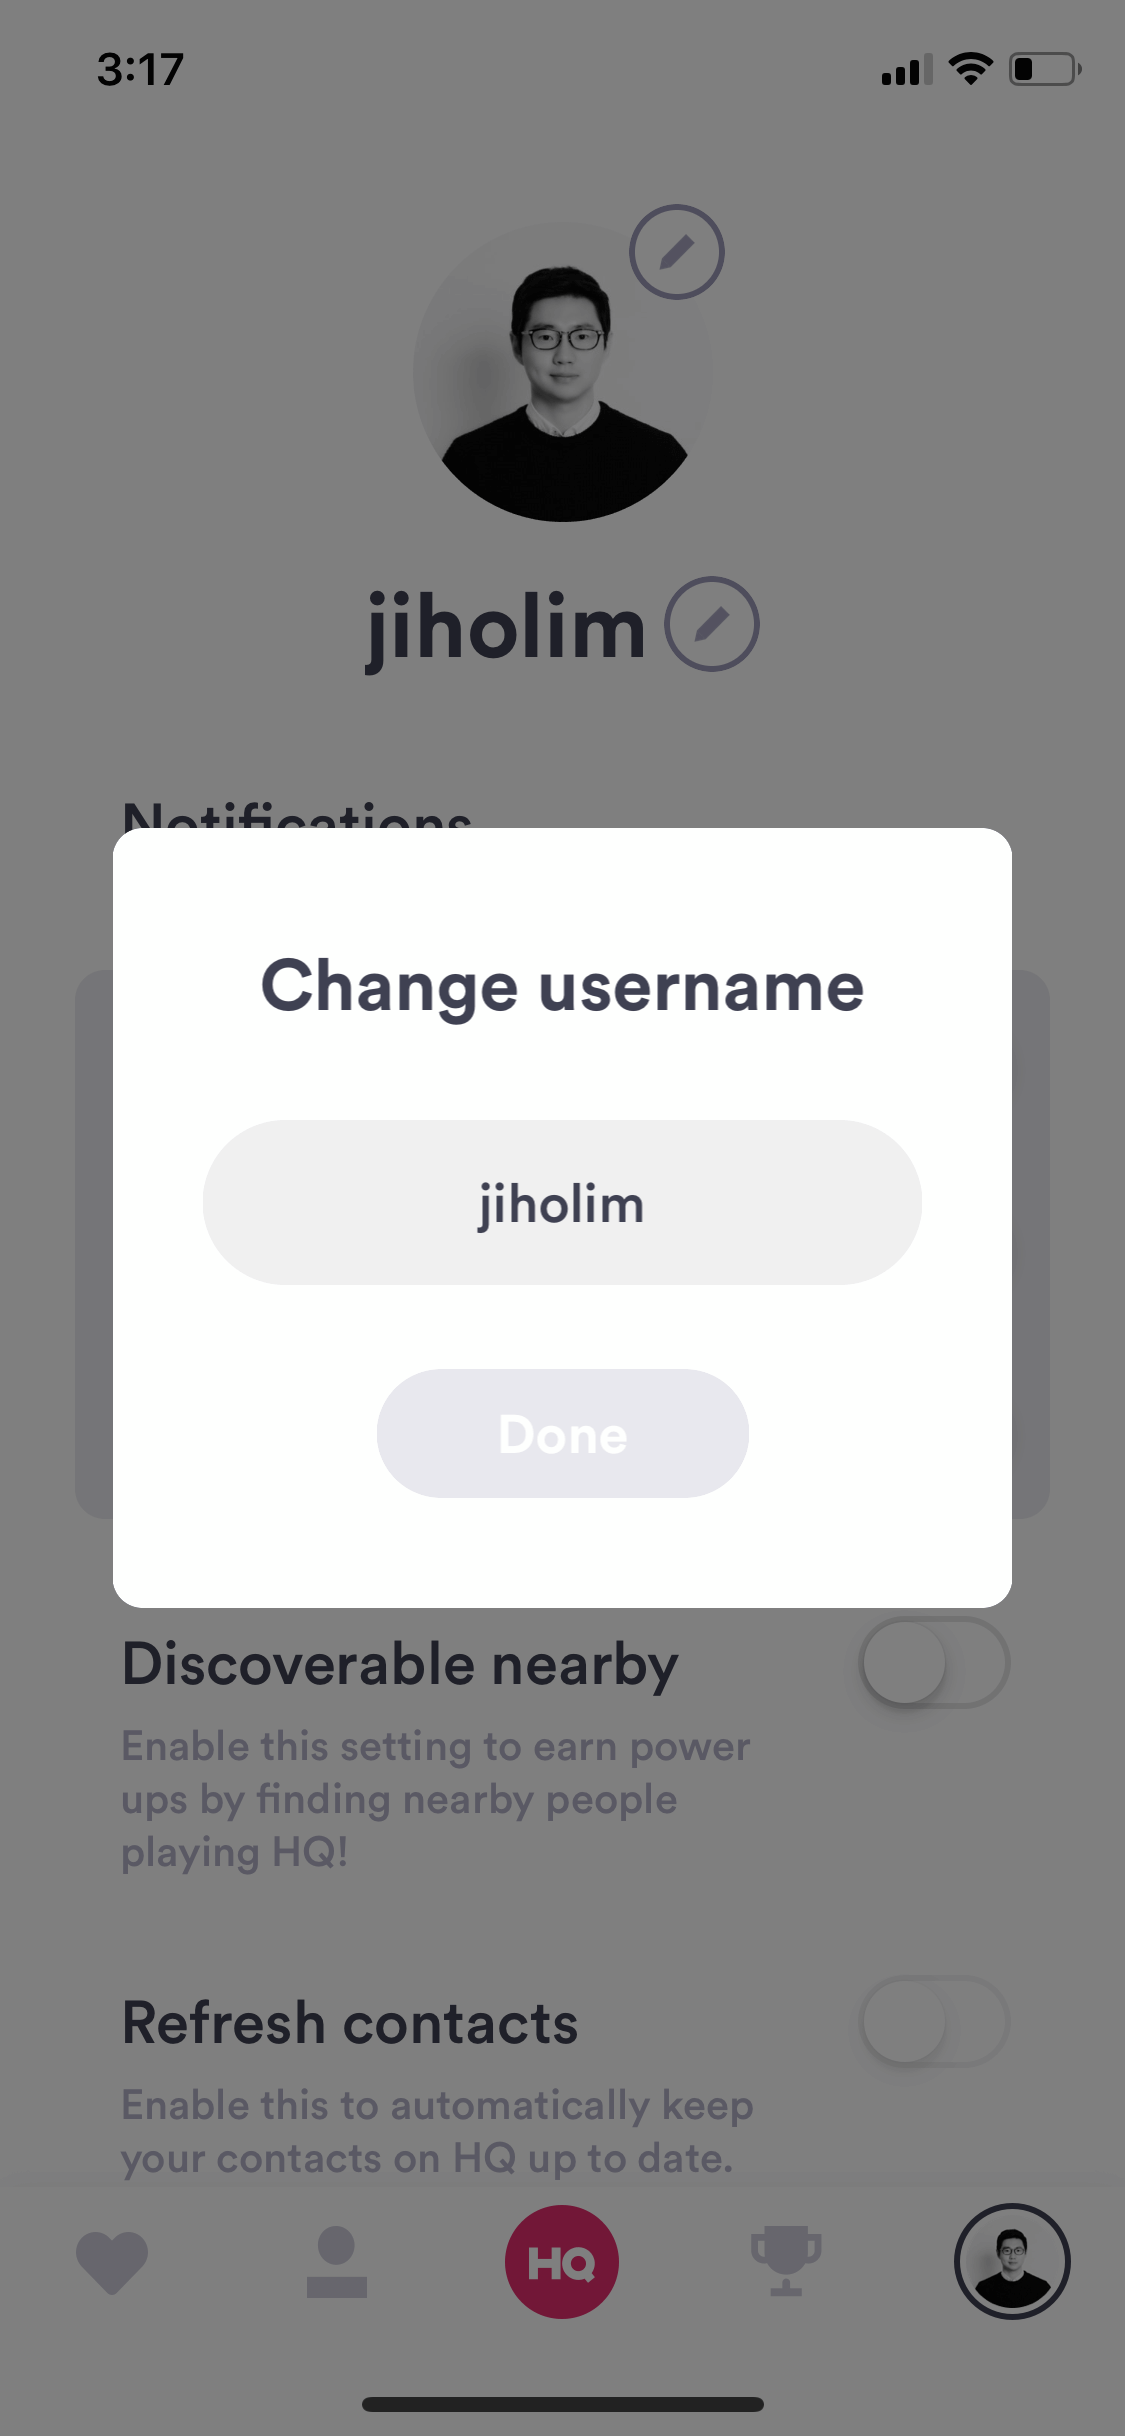Buttons: (371, 1355, 763, 1515), (650, 558, 772, 682)
Switches: (852, 1953, 1021, 2088), (852, 1613, 1013, 1718)
Text Fields: (179, 1119, 945, 1303)
